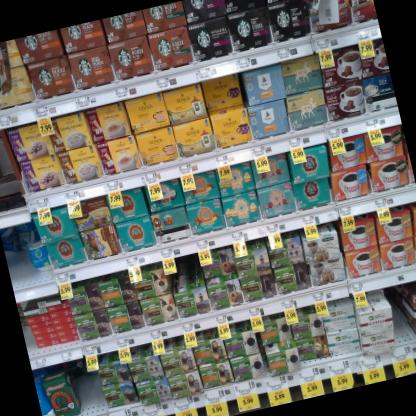empty_space: (380, 280, 416, 353), (0, 94, 23, 196), (70, 354, 107, 416), (6, 249, 35, 287), (17, 301, 35, 350)
